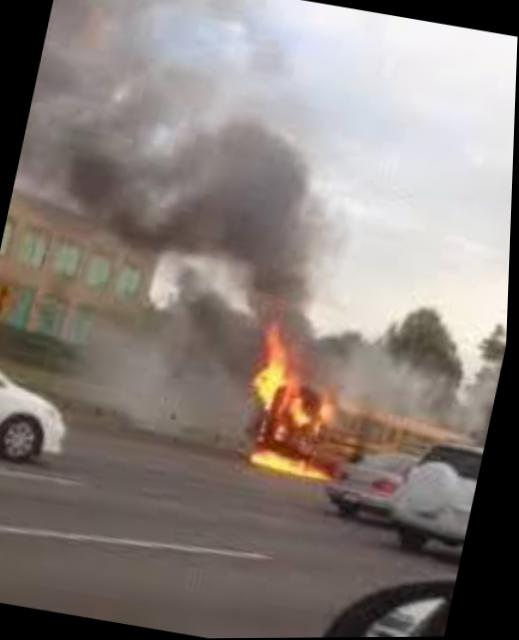fire: (215, 315, 355, 484)
